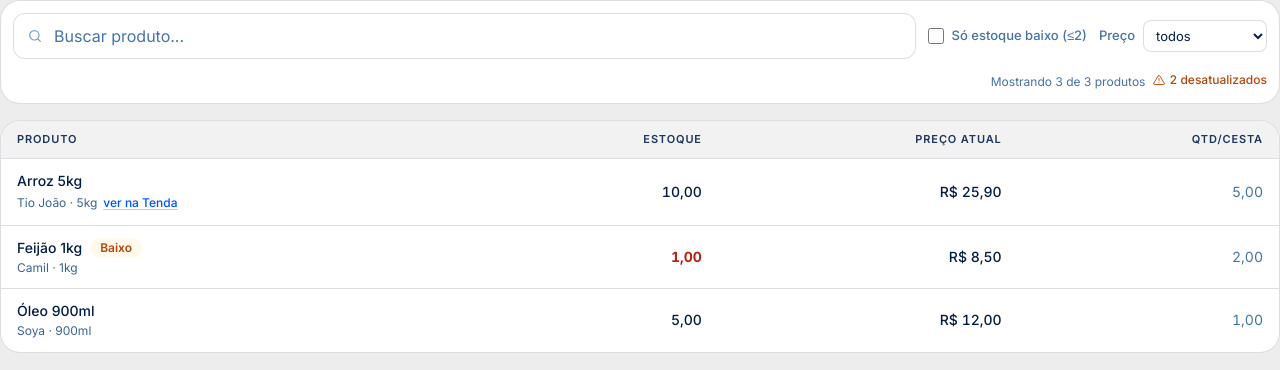
Scenario: EstoqueClient › filtra produtos por busca na marca
This screenshot has width=1280, height=370.
In the field named "buscar por nome ou marca": coordinates (464, 36) [13,13,916,59], type "Camil"
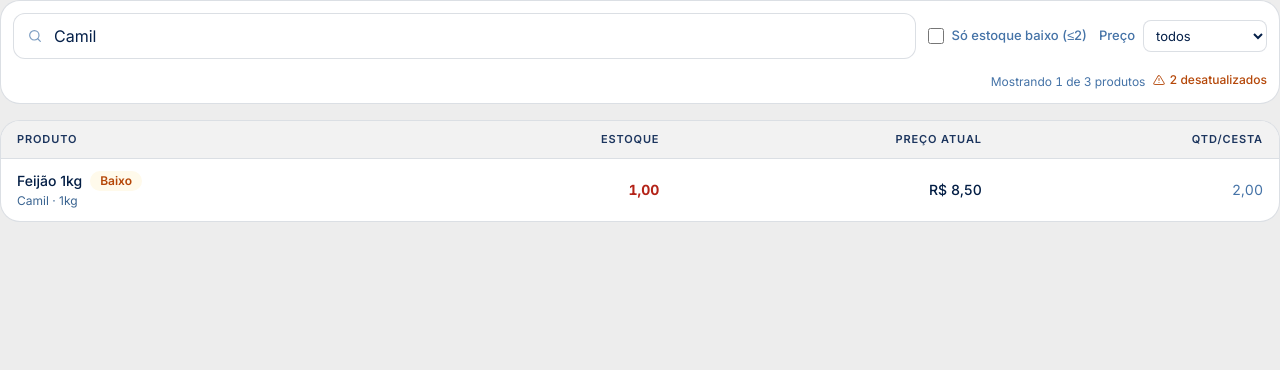
Expected: the text "Feijão 1kg" is shown, [17,170,82,190]
Expected: the text "Arroz 5kg" is gone
